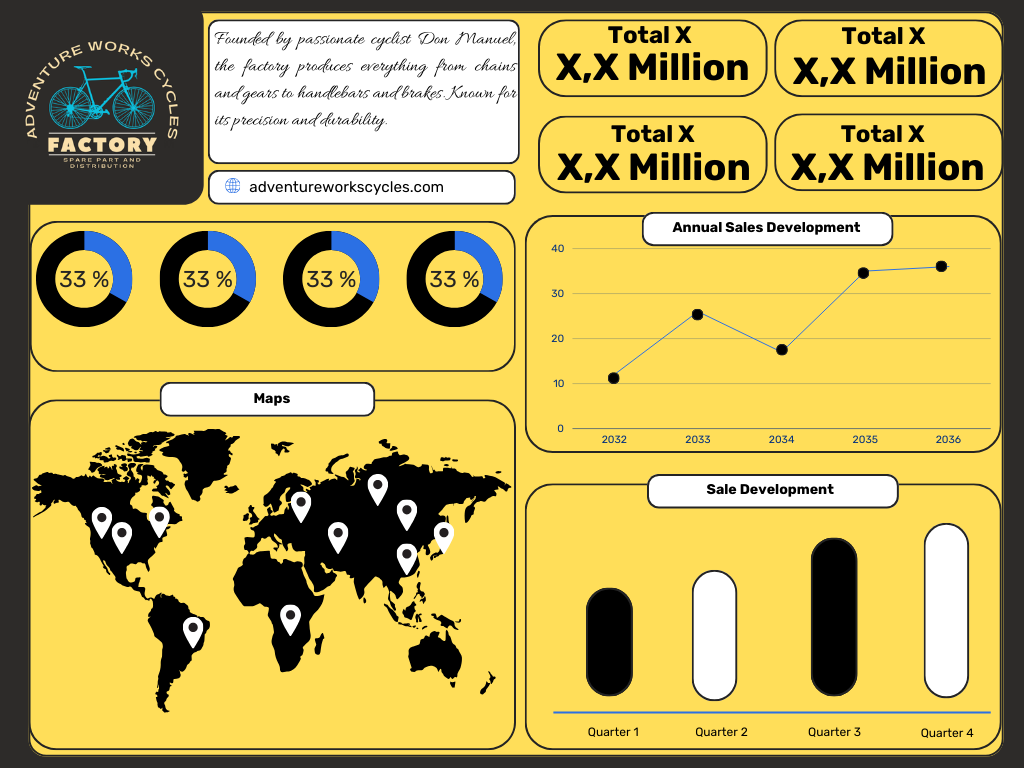

The page's visual inventory and layout, read from the dashboard file:
{"tool":"powerbi","page":{"name":"Reporte General","canvas":[1920,1080],"ordinal":1},"visuals":[{"type":"card","fields":{"Values":["Medidas.Total Ingresos"]},"box":[850,46,286,158],"z":0},{"type":"card","fields":{"Values":["Medidas.Total Clientes Por Pais"]},"box":[105.3,398.5,282.8,156.9],"z":1000},{"type":"card","fields":{"Values":["Medidas.Utilidad Neta Actual"]},"box":[103.2,569.8,284.9,156.9],"z":2000},{"type":"card","fields":{"Values":["Medidas.Cantidad Vendida"]},"box":[105.3,233.3,282.8,156.9],"z":3000},{"type":"clusteredColumnChart","title":"Ingresos por Mes","fields":{"Y":["Medidas.Total Ingresos"],"Category":["DimDate.MonthName_3"]},"box":[1137.5,233.3,743.2,543],"z":4000},{"type":"filledMap","title":"Clientes Por Pais","fields":{"Category":["DimSalesTerritory.SalesTerritoryCountry"]},"box":[410.8,233.3,710.2,543],"z":5000},{"type":"lineChart","title":"Utilidad Neta Actual","fields":{"Y":["Medidas.Utilidad Neta Actual"],"Category":["DimDate.CalendarYear Jerarquía.CalendarYear"]},"box":[1137,787.9,744.2,293.3],"z":6000},{"type":"actionButton","box":[0,0,157.6,109.1],"z":7000},{"type":"card","fields":{"Values":["Medidas.% Margen bruto"]},"box":[103.2,743.2,284.9,156.9],"z":8000},{"type":"card","fields":{"Values":["Medidas.% Margen Neto"]},"box":[103.2,918.7,284.9,156.9],"z":9000},{"type":"image","box":[106,0,220,218],"z":10000},{"type":"donutChart","fields":{"Y":["Medidas.Costo Bienes Vendidos (COGS)","Medidas.COGS Anterior"]},"box":[411,788,710,292],"z":11000},{"type":"actionButton","box":[1790,0,130,109.1],"z":12000},{"type":"slicer","fields":{"Values":["FactInternetSales.OrderDate.Variación.Jerarquía de fechas.Año"]},"box":[1464,112,288,92],"z":13000},{"type":"shape","box":[0,214,1920,24],"z":14000},{"type":"card","fields":{"Values":["Medidas.COGS Anterior"]},"box":[1156,46,286,158],"z":15000},{"type":"textbox","box":[106.5,0,716.1,218.3],"z":16000}]}

Visuals, with their boxes on the page's 1920x1080 design canvas (x1, y1, x2, y2). These are canvas units, not pixel positions in the 1024x768 screenshot, which may show the page scaled, cropped or inside an application window:
card - Medidas.Total Ingresos: [x1=850, y1=46, x2=1136, y2=204]
card - Medidas.Total Clientes Por Pais: [x1=105, y1=398, x2=388, y2=555]
card - Medidas.Utilidad Neta Actual: [x1=103, y1=570, x2=388, y2=727]
card - Medidas.Cantidad Vendida: [x1=105, y1=233, x2=388, y2=390]
"Ingresos por Mes" clusteredColumnChart: [x1=1138, y1=233, x2=1881, y2=776]
"Clientes Por Pais" filledMap: [x1=411, y1=233, x2=1121, y2=776]
"Utilidad Neta Actual" lineChart: [x1=1137, y1=788, x2=1881, y2=1081]
actionButton: [x1=0, y1=0, x2=158, y2=109]
card - Medidas.% Margen bruto: [x1=103, y1=743, x2=388, y2=900]
card - Medidas.% Margen Neto: [x1=103, y1=919, x2=388, y2=1076]
image: [x1=106, y1=0, x2=326, y2=218]
donutChart - Medidas.Costo Bienes Vendidos (COGS) x Medidas.COGS Anterior: [x1=411, y1=788, x2=1121, y2=1080]
actionButton: [x1=1790, y1=0, x2=1920, y2=109]
slicer - FactInternetSales.OrderDate.Variación.Jerarquía de fechas.Año: [x1=1464, y1=112, x2=1752, y2=204]
shape: [x1=0, y1=214, x2=1920, y2=238]
card - Medidas.COGS Anterior: [x1=1156, y1=46, x2=1442, y2=204]
textbox: [x1=106, y1=0, x2=823, y2=218]
